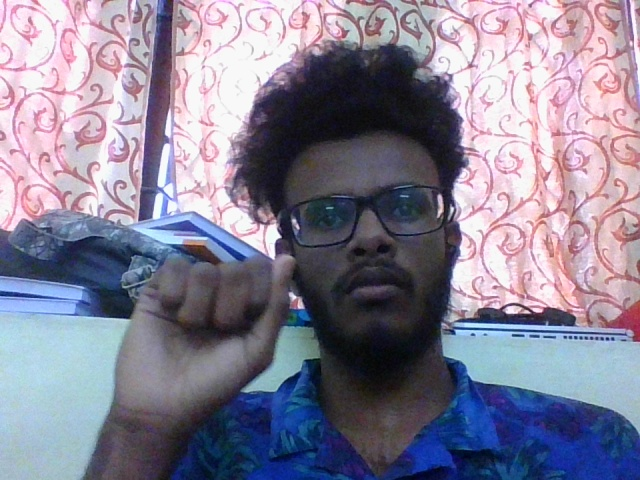yes: (81, 248, 301, 478)
